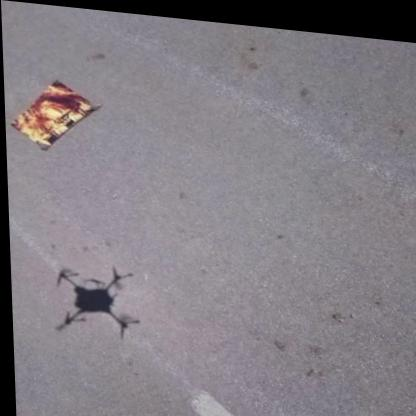fire-poster: (5, 74, 103, 157)
